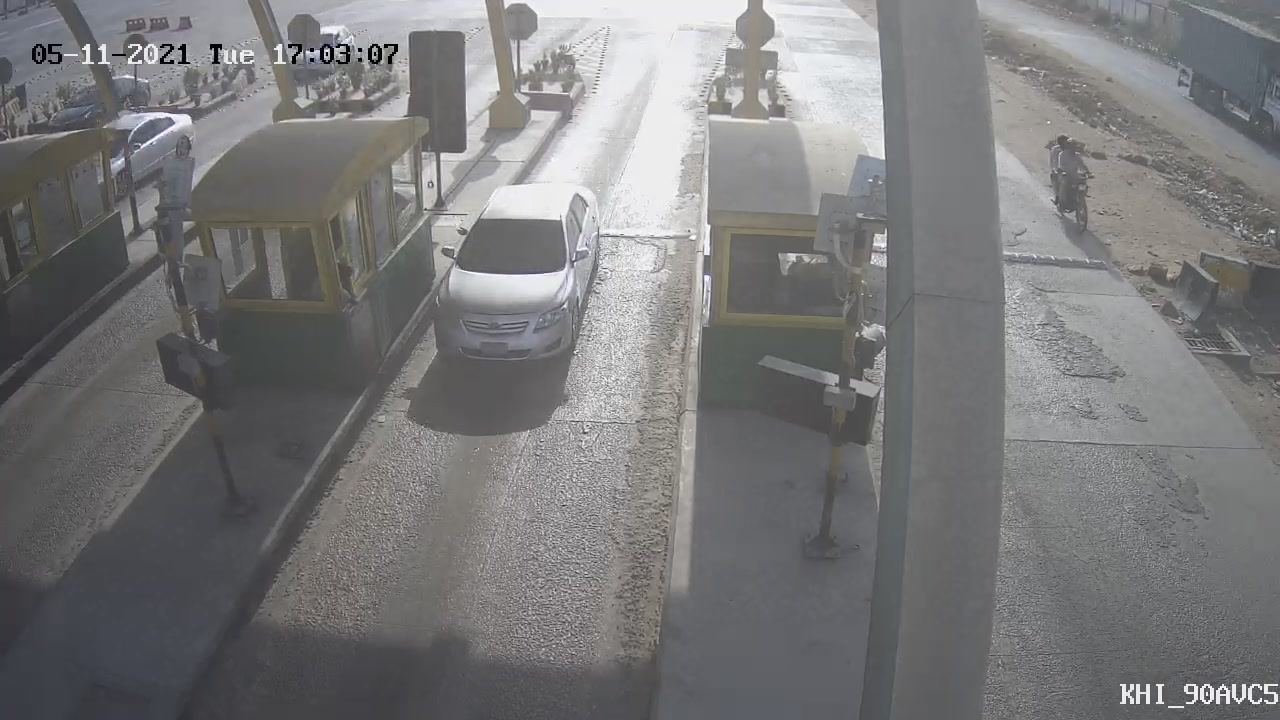F1: (405, 156, 621, 396)
